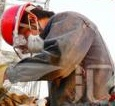hard-hat: (0, 1, 43, 45)
vest: (3, 6, 115, 104)
